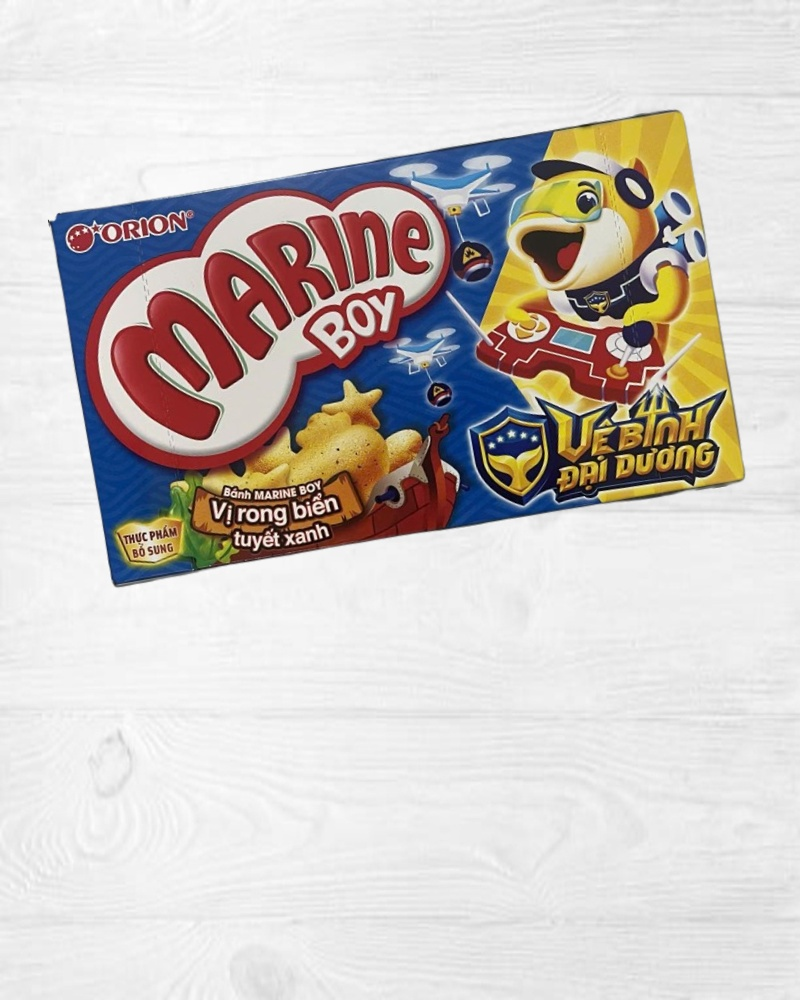Marine: (50, 104, 750, 593)
